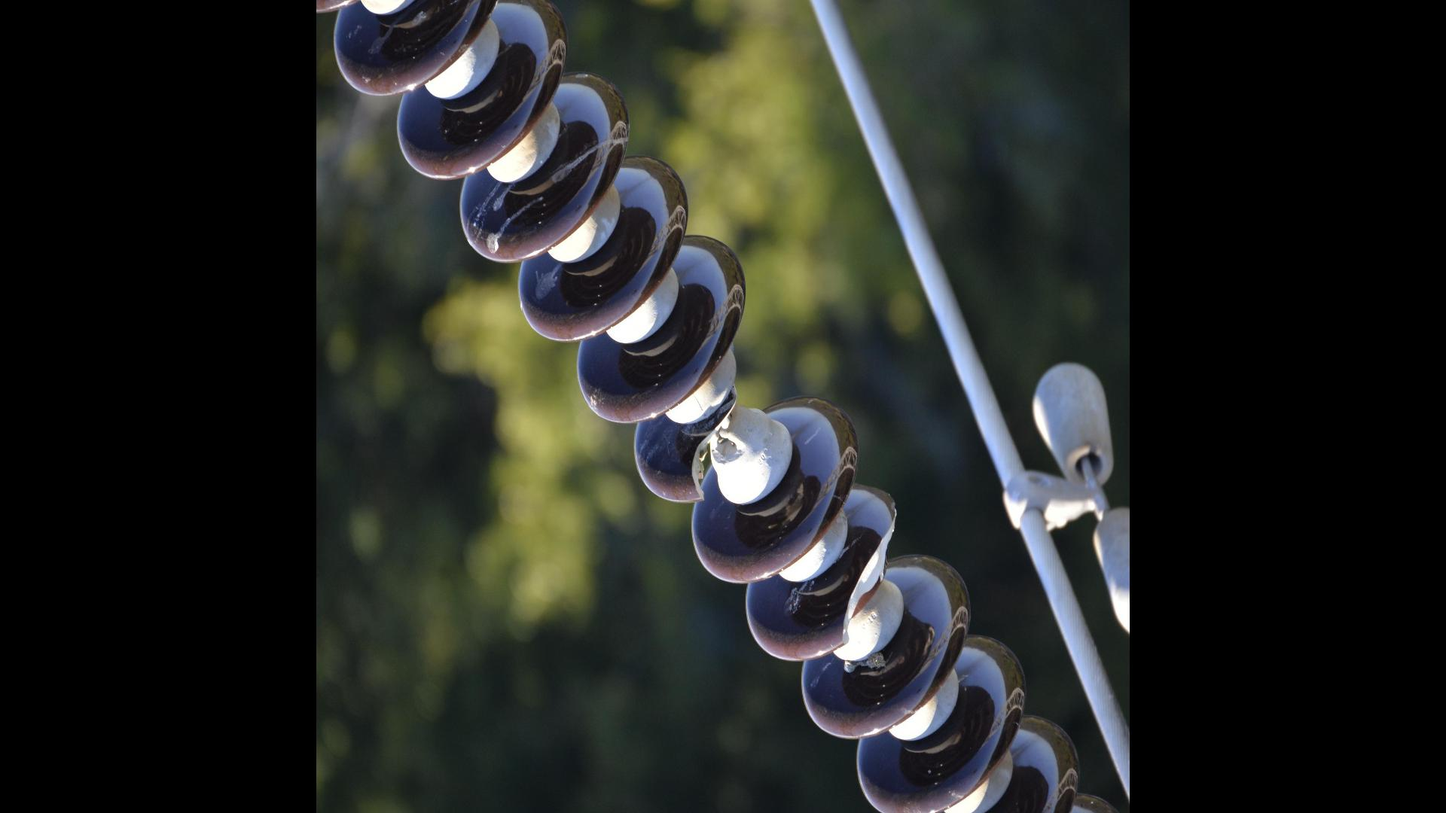insulator: (326, 1, 1121, 813)
insulator_breakage: (834, 500, 901, 647), (686, 388, 740, 504)
